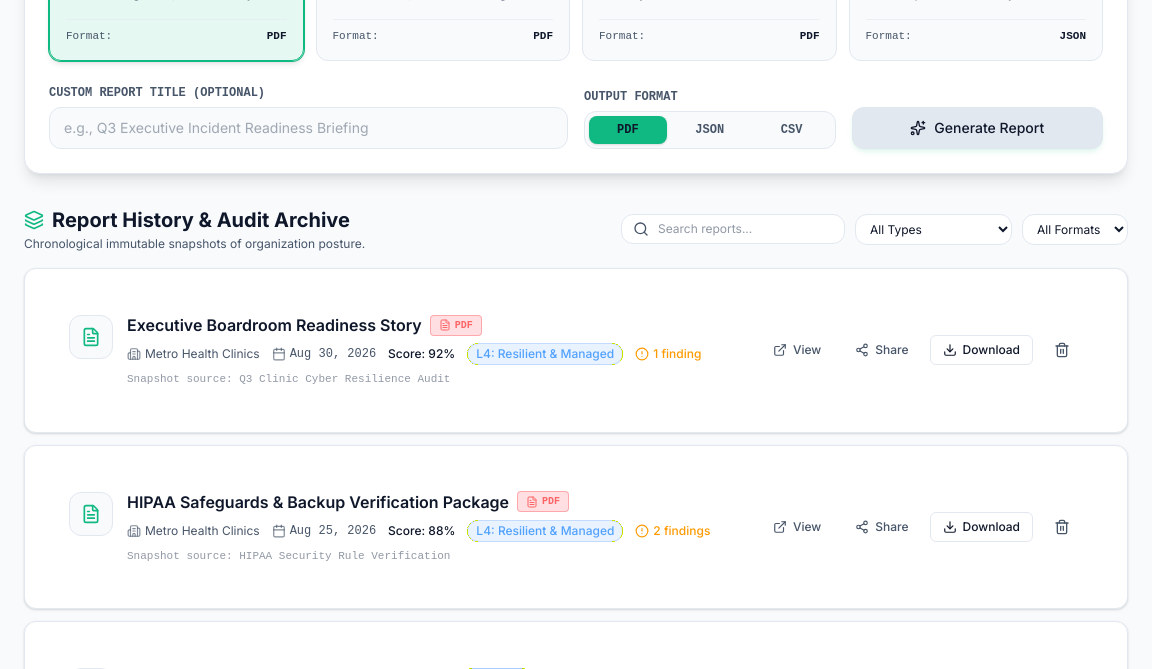
Test: Tier 1: Feature Coverage (R1 - R8) › R6: Report UX & History Management › T1.R6.04: Share report button copies link to clipboard with confirmation text
(page scrolled)
Expected: the heading "Executive Boardroom Readiness Story" is shown, [127,313,422,337]
Click the button "Share" in the row of "92".
click(882, 350)  # box [842,335,922,365]
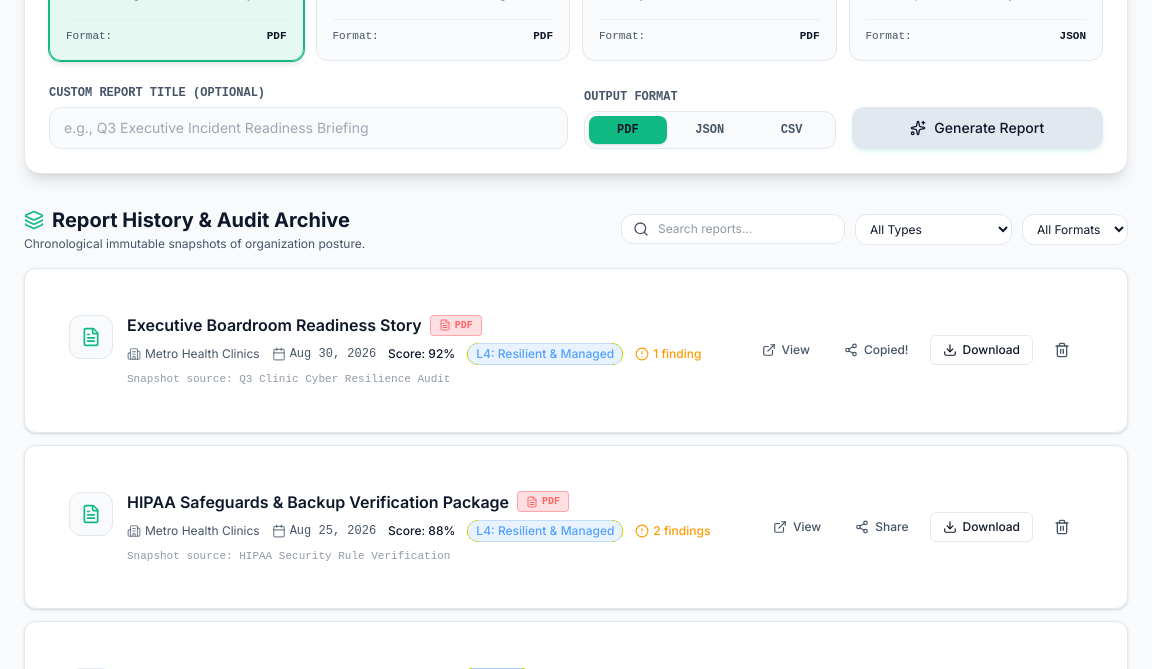
Now the button "Copied!" is shown, box [831,335,922,365]
